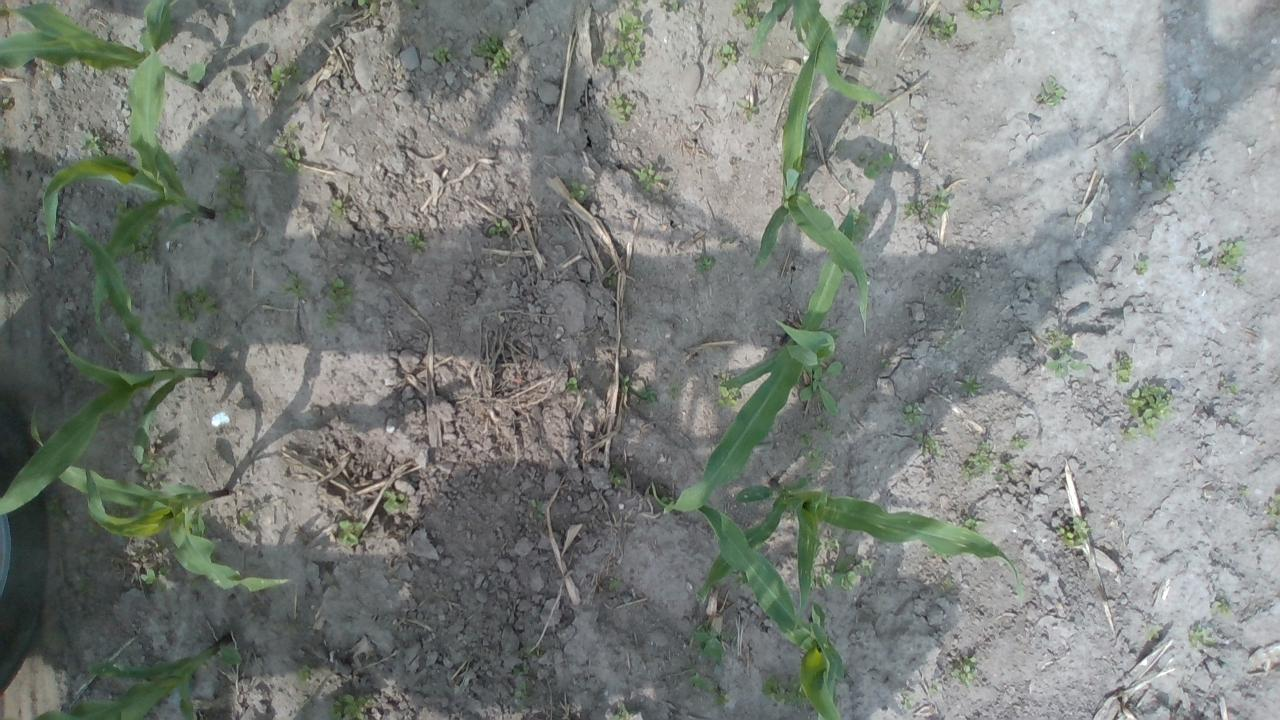Maize: (0, 218, 217, 518), (42, 0, 214, 352), (668, 211, 856, 509), (26, 400, 296, 595), (698, 476, 1028, 635), (750, 22, 871, 340), (696, 504, 847, 720), (0, 0, 205, 92), (32, 633, 245, 720), (748, 0, 890, 105)
Weeds: (597, 0, 647, 74), (157, 284, 226, 328), (1122, 382, 1174, 440), (799, 356, 845, 416), (809, 554, 876, 592), (1042, 329, 1090, 377), (214, 164, 252, 224), (834, 0, 886, 43), (125, 213, 165, 268), (902, 188, 952, 230), (271, 124, 308, 177), (318, 276, 354, 330), (690, 620, 734, 664), (686, 667, 730, 709), (470, 32, 510, 77), (760, 672, 811, 707), (268, 58, 306, 96), (960, 440, 995, 481), (328, 692, 372, 720), (729, 0, 768, 30), (856, 152, 894, 182), (1214, 239, 1248, 271), (1032, 76, 1068, 106), (1058, 516, 1091, 548), (925, 10, 957, 42), (960, 0, 1004, 23), (630, 160, 663, 190), (137, 566, 174, 592), (914, 430, 946, 460), (714, 373, 742, 407), (136, 448, 168, 477), (849, 208, 874, 244), (606, 94, 634, 126), (950, 656, 979, 686), (79, 130, 109, 158), (130, 540, 175, 558), (280, 273, 308, 301), (44, 498, 72, 526), (733, 94, 760, 122), (942, 286, 969, 314), (1128, 148, 1157, 174), (101, 499, 138, 519), (900, 400, 926, 428), (338, 520, 364, 548), (380, 489, 408, 515), (821, 526, 849, 552), (716, 42, 740, 70), (1188, 625, 1217, 648), (802, 447, 829, 471), (1112, 356, 1134, 385), (431, 42, 457, 65), (639, 377, 660, 404), (993, 460, 1015, 485), (956, 517, 987, 534), (616, 372, 639, 394), (75, 574, 96, 598), (113, 200, 135, 222), (607, 467, 629, 489), (406, 228, 426, 252), (854, 102, 875, 124), (488, 218, 512, 236), (568, 180, 588, 201), (1266, 492, 1280, 522), (1210, 593, 1230, 614), (814, 415, 834, 436), (1218, 376, 1240, 395), (296, 664, 314, 687), (353, 0, 380, 15), (961, 375, 981, 395), (1158, 172, 1178, 192), (528, 498, 546, 520), (183, 574, 207, 590), (1133, 258, 1153, 277), (797, 428, 816, 448), (695, 256, 716, 274), (85, 521, 104, 540), (562, 376, 580, 396), (329, 198, 345, 220), (1232, 272, 1254, 288), (658, 0, 681, 15), (1008, 433, 1028, 450), (900, 689, 916, 710), (518, 644, 542, 658), (927, 548, 950, 562), (666, 380, 682, 400), (516, 681, 532, 700), (732, 568, 749, 585), (612, 704, 630, 720), (658, 496, 678, 510), (42, 60, 59, 76), (939, 576, 955, 592), (138, 478, 160, 489), (1146, 628, 1163, 642), (928, 680, 943, 695), (238, 510, 254, 524), (514, 665, 532, 677), (608, 576, 623, 590), (604, 272, 618, 286), (878, 356, 892, 369), (1196, 254, 1209, 268), (286, 622, 300, 634), (80, 548, 94, 558), (402, 0, 421, 7), (1238, 488, 1249, 498), (0, 98, 11, 106), (364, 650, 372, 660)
